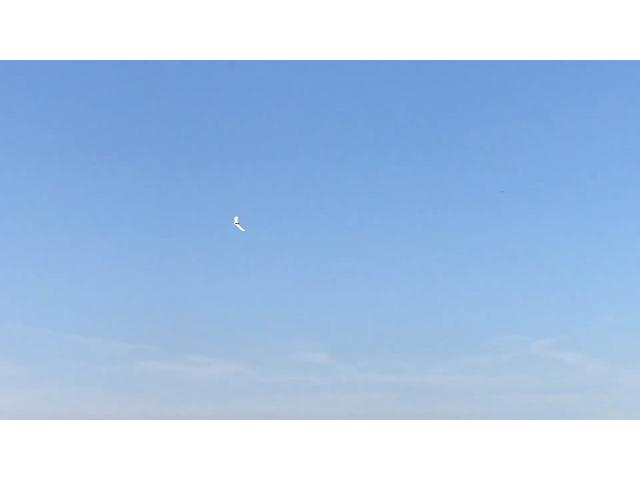Anti-Drone: (208, 202, 270, 244)
